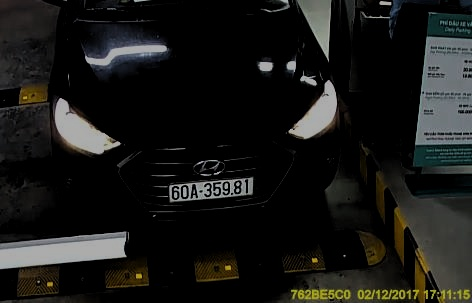plate: (168, 180, 256, 201)
